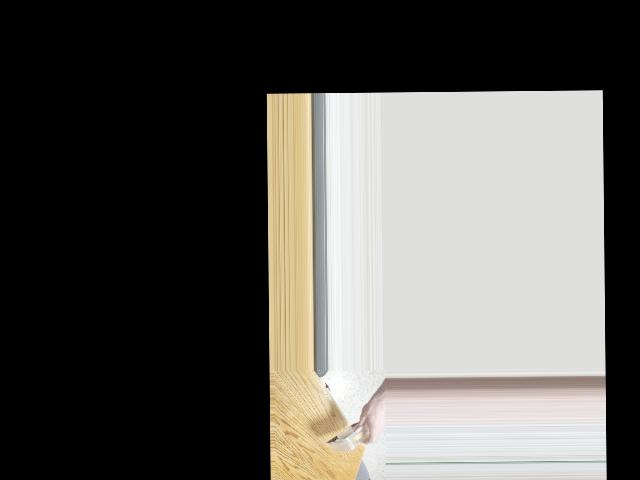cheese: (336, 405, 379, 463)
